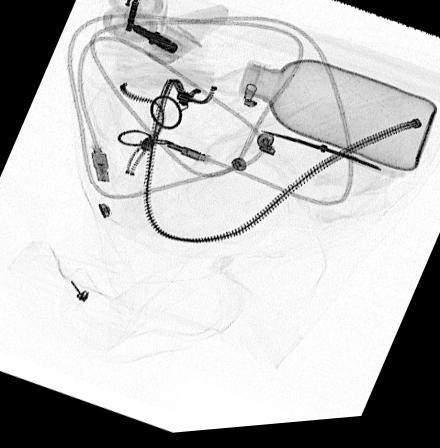Scissors: (259, 133, 389, 182)
